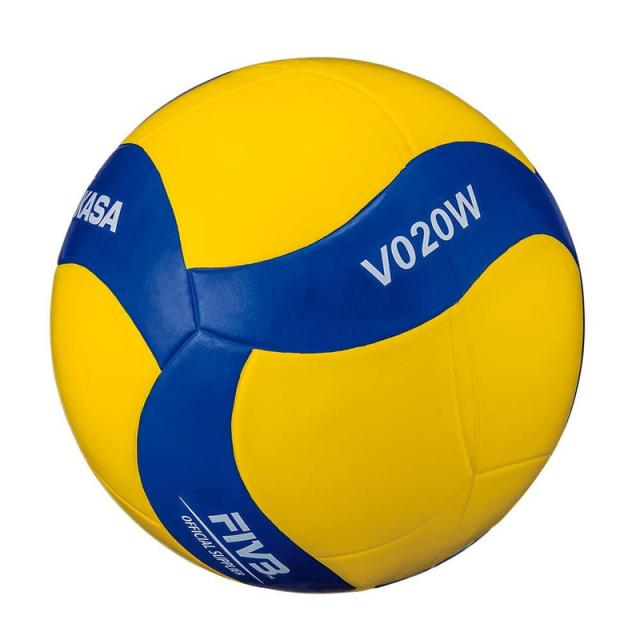Volleyball: (52, 59, 588, 596)
